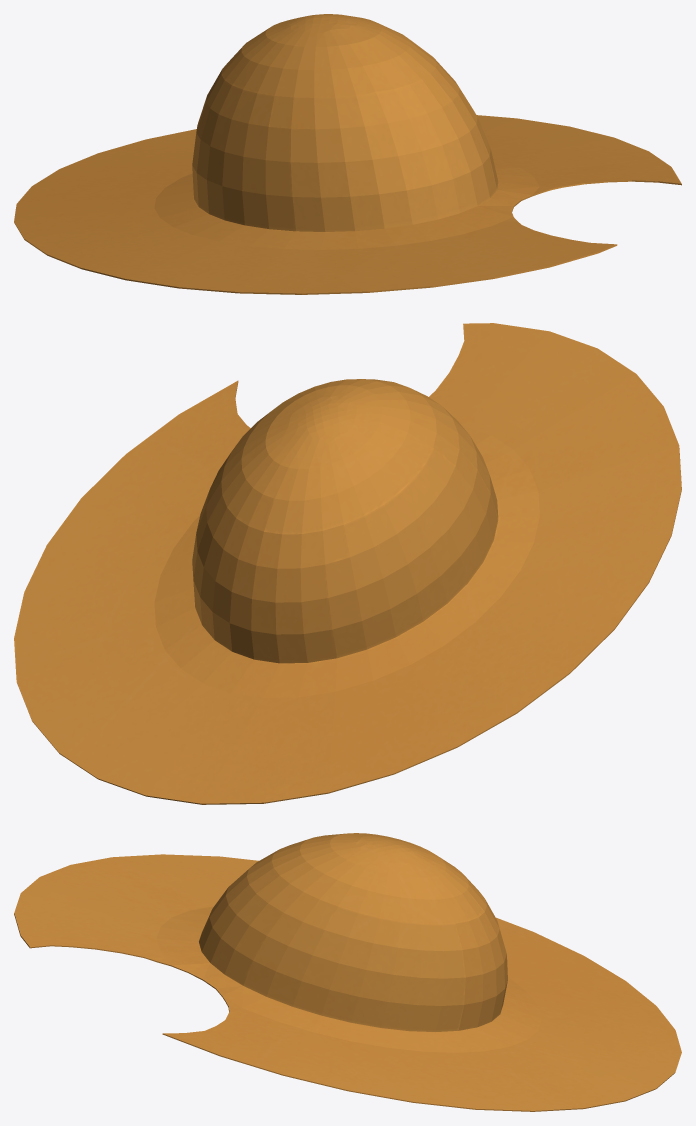
The model's file is mhw_culturalibre_cl_don_quixote_hat.glb.
3 renders of one model, top to bottom at view 1: azimuth 30°, elevation 25°; view 2: azimuth 150°, elevation 25°; view 3: azimuth 270°, elevation 25°, orthographic. The views are drawn at different scales.
Visible parts, largest first — view 1: mhw_culturalibre_cl_don_quixote_hat; view 2: mhw_culturalibre_cl_don_quixote_hat; view 3: mhw_culturalibre_cl_don_quixote_hat.
Part boxes in pixels (x1,y1,x2,y2): mhw_culturalibre_cl_don_quixote_hat: (14,14,681,294); mhw_culturalibre_cl_don_quixote_hat: (14,323,681,804); mhw_culturalibre_cl_don_quixote_hat: (14,833,681,1111).
Bounding box in the file's own units: 0.3762 × 0.1723 × 0.4933.
Materials: 1 (1 with a texture image).
